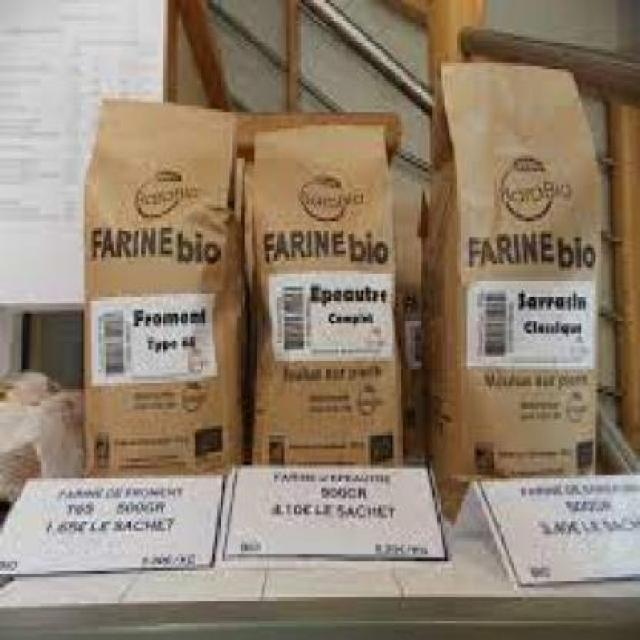gunny_bag: (442, 64, 602, 474), (87, 104, 237, 476), (249, 121, 407, 459)
